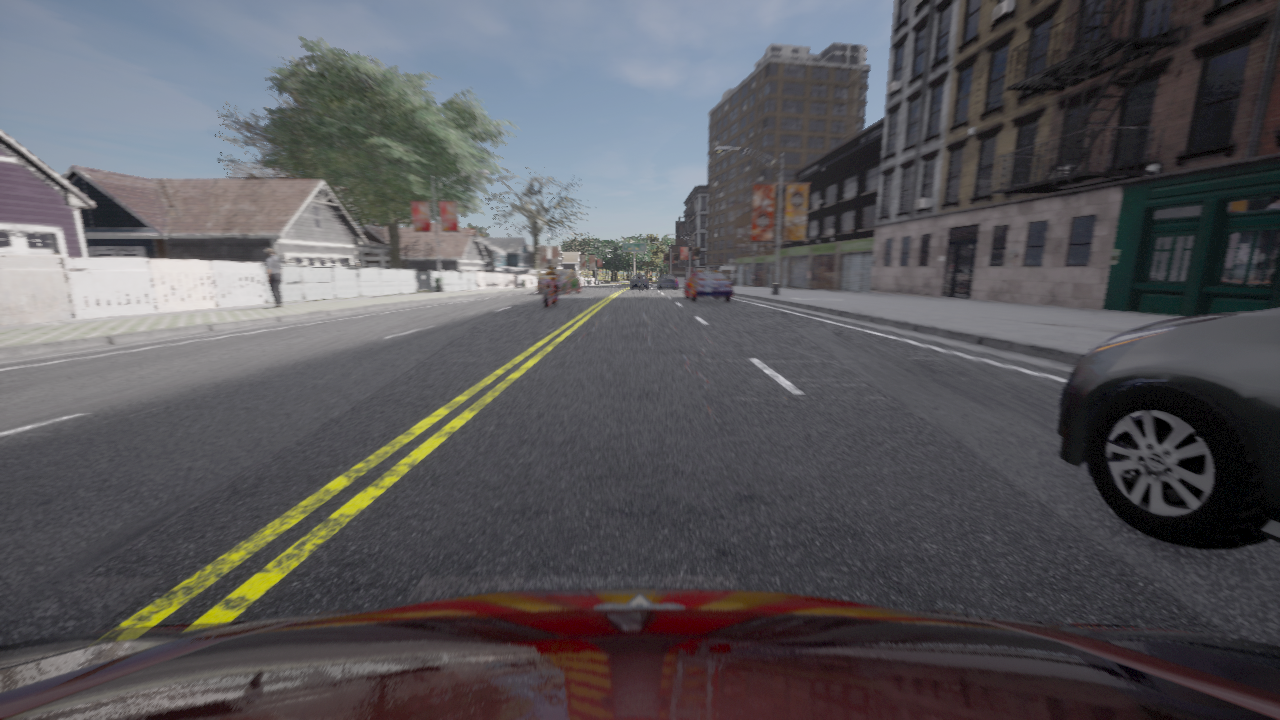cyclist: (0, 588, 1279, 719), (1056, 308, 1279, 549), (684, 271, 733, 301), (537, 269, 580, 293), (540, 272, 559, 307), (659, 274, 677, 288), (631, 276, 648, 288), (639, 283, 640, 285)
pedestrian: (265, 247, 283, 307)
